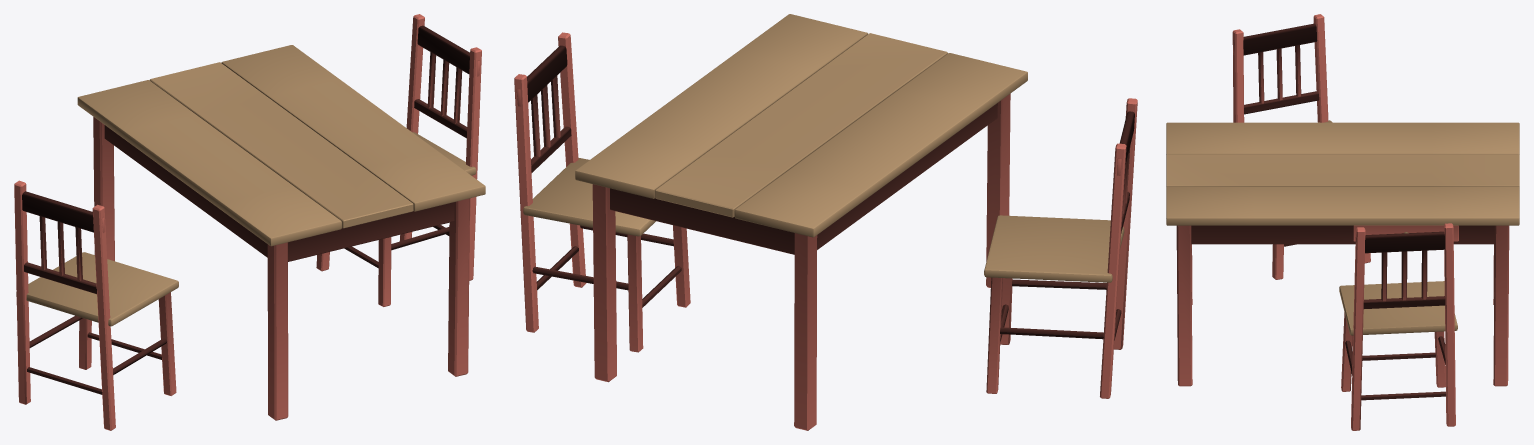
The model's file is ktable.glb.
3 renders of one model, left to right at view 1: azimuth 30°, elevation 25°; view 2: azimuth 150°, elevation 25°; view 3: azimuth 270°, elevation 25°, orthographic. The views are drawn at different scales.
Visible parts, largest first — view 1: PART; view 2: PART; view 3: PART.
Boxes of the visible parts, box(x1,y1,x2,y2) form: PART: box(14, 14, 485, 430); PART: box(514, 14, 1137, 430); PART: box(1166, 14, 1519, 430).
Size of the model in its own units: 2.04 by 0.9009 by 1.4.
